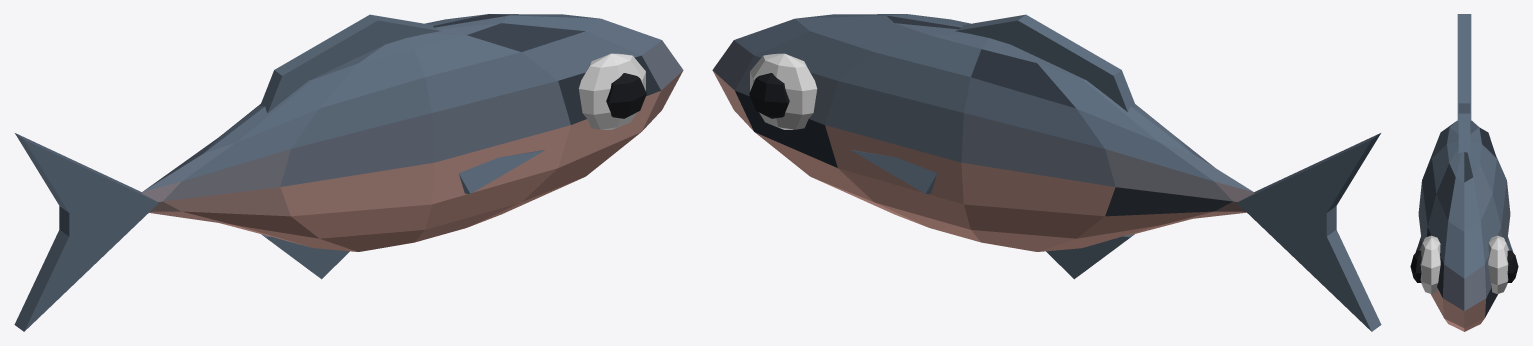
Rendered from fish-salmon.glb.
3 views of the same model, side by side, from view 1: azimuth 30°, elevation 25°; view 2: azimuth 150°, elevation 25°; view 3: azimuth 270°, elevation 25° (orthographic). The views are drawn at different scales.
Parts seen in each view (by area): view 1: fish-salmon; view 2: fish-salmon; view 3: fish-salmon.
Boxes of the visible parts, bbox=[...] form: fish-salmon: bbox=[14, 14, 683, 331]; fish-salmon: bbox=[712, 14, 1381, 331]; fish-salmon: bbox=[1410, 14, 1518, 331].
Bounding box in the file's own units: 1.18 × 0.416 × 0.235.
